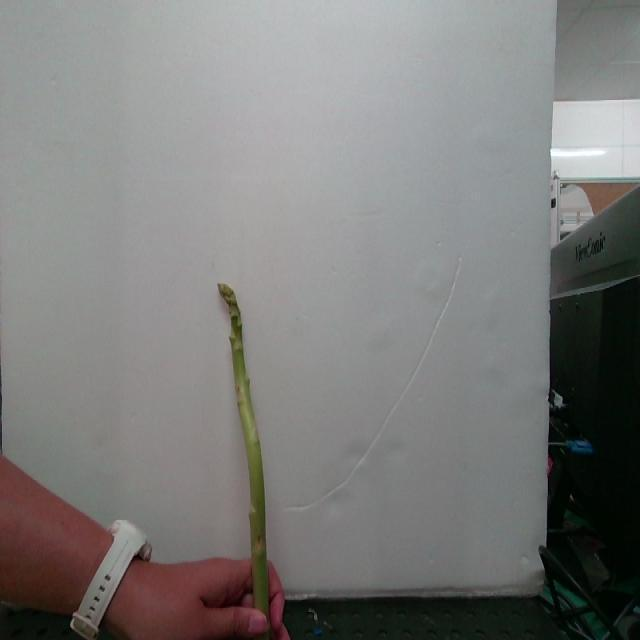aspargus: (218, 285, 274, 640)
